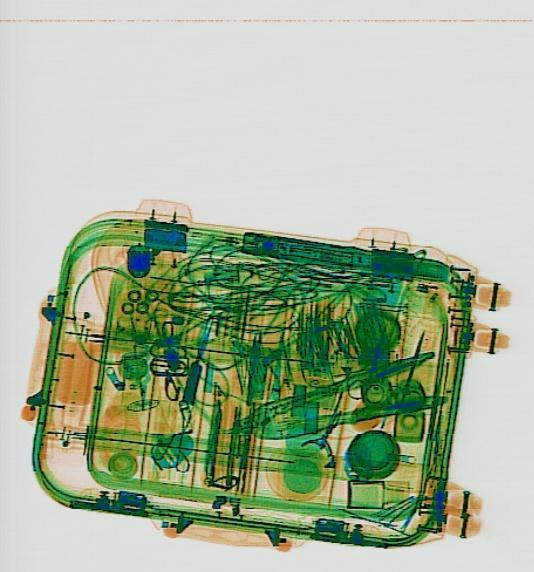Scissors: (380, 326, 439, 411), (346, 330, 397, 404)
